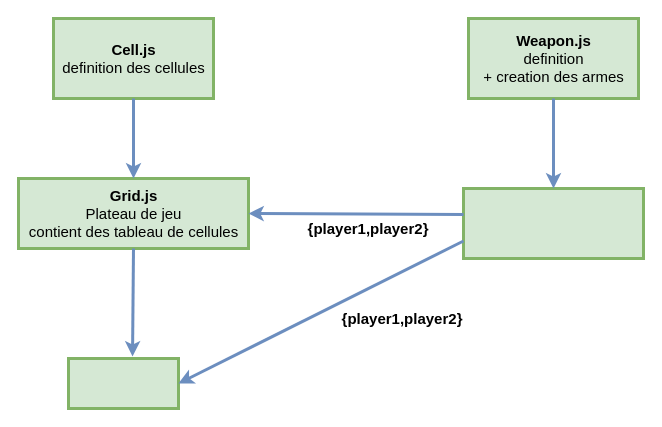
Some shapes in this 662 by 427 pixel diagram are drawn without their labels. Each missing label, with the box of its shape:
launch.js lancement: (66, 356, 180, 410)
Player.js recoit une arme: (462, 186, 644, 260)
